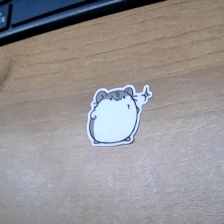mouse: (85, 84, 155, 146)
